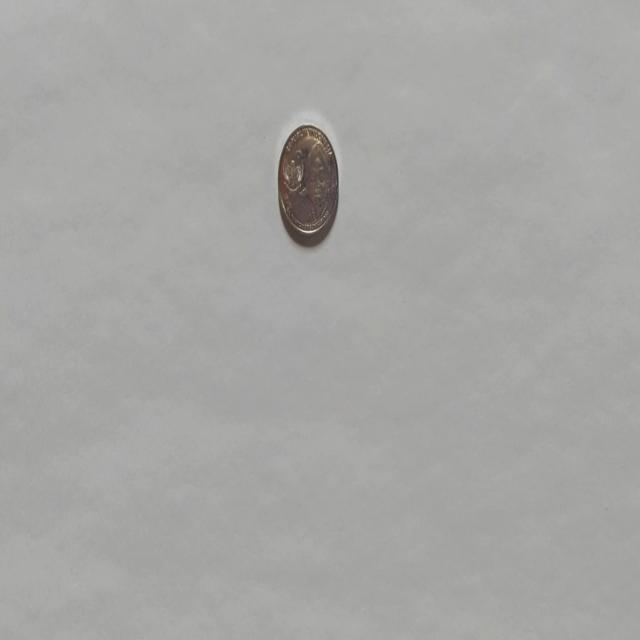dua ratus rupiah: (276, 122, 340, 244)
